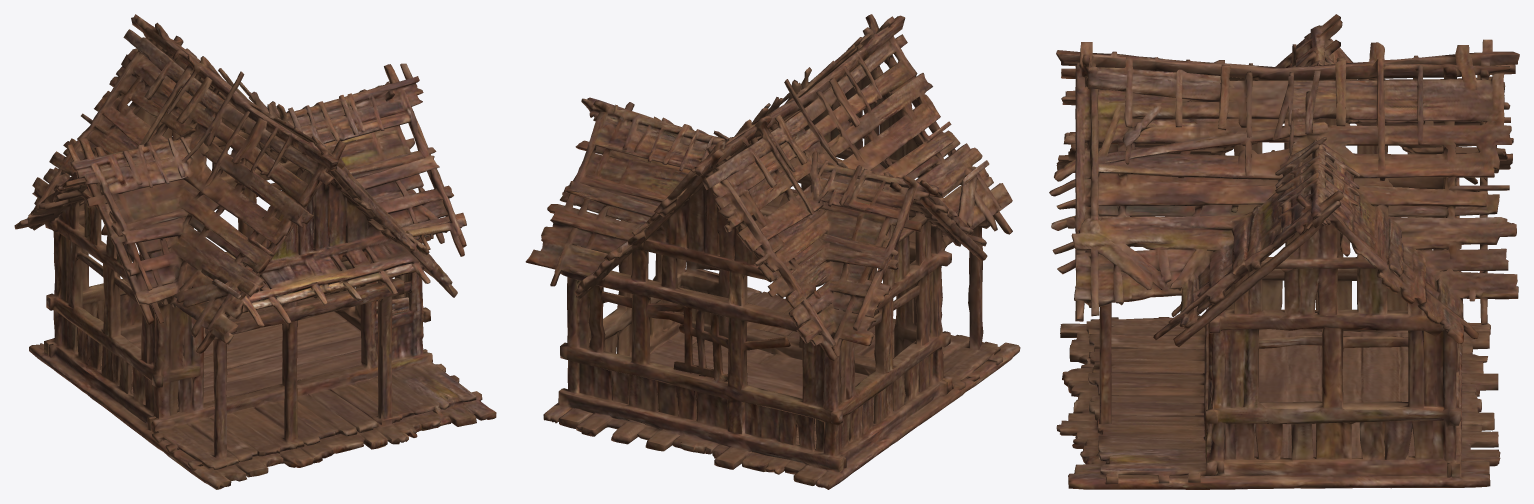
Rendered from a_low-poly_weathered_wooden_shelter_3d.glb.
The picture shows the model from 3 angles, left to right: view 1: azimuth 30°, elevation 25°; view 2: azimuth 150°, elevation 25°; view 3: azimuth 270°, elevation 25°; orthographic projection. The views are drawn at different scales.
Visible parts, largest first — view 1: tripo_node_43ffd43e-e596-41ea-8528-bc36c_0; view 2: tripo_node_43ffd43e-e596-41ea-8528-bc36c_0; view 3: tripo_node_43ffd43e-e596-41ea-8528-bc36c_0.
Boxes of the visible parts, left/top/right/bottom form: tripo_node_43ffd43e-e596-41ea-8528-bc36c_0: left=14, top=14, right=496, bottom=489; tripo_node_43ffd43e-e596-41ea-8528-bc36c_0: left=525, top=14, right=1020, bottom=489; tripo_node_43ffd43e-e596-41ea-8528-bc36c_0: left=1049, top=14, right=1519, bottom=489.
Bounding box in the file's own units: 0.9734 × 0.8455 × 1.
1 material, 1 textured.
